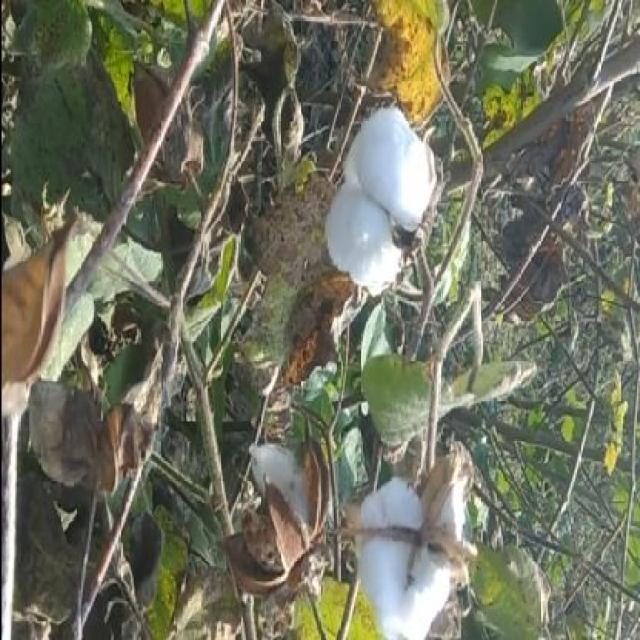cotton_ready: (302, 93, 441, 350), (342, 435, 491, 639)
